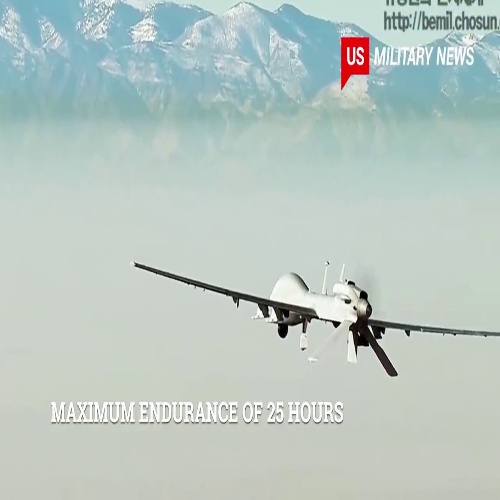uav92: (129, 258, 500, 374)
